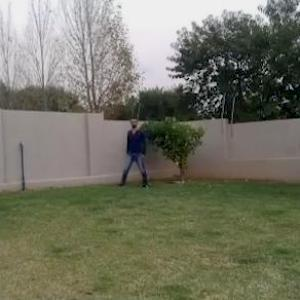follow: (127, 114, 146, 189)
